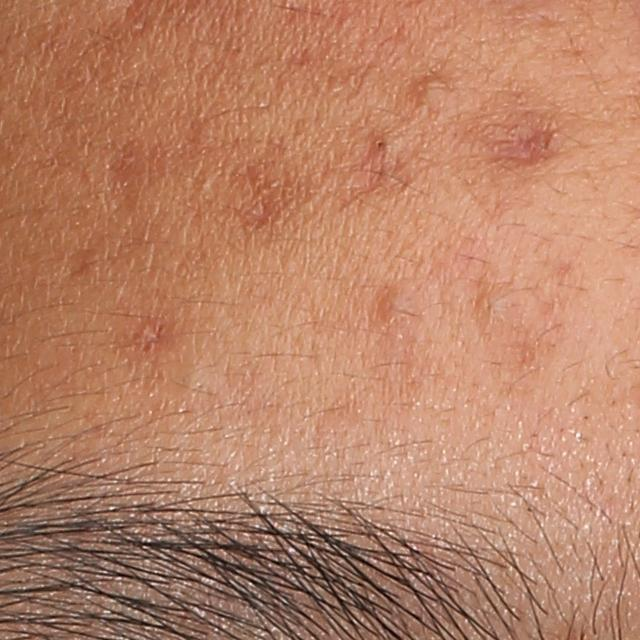atrophic_scar: (466, 110, 567, 169), (227, 160, 287, 235)
comedo: (414, 75, 454, 115), (378, 284, 412, 326), (479, 287, 506, 318), (368, 132, 391, 154)
